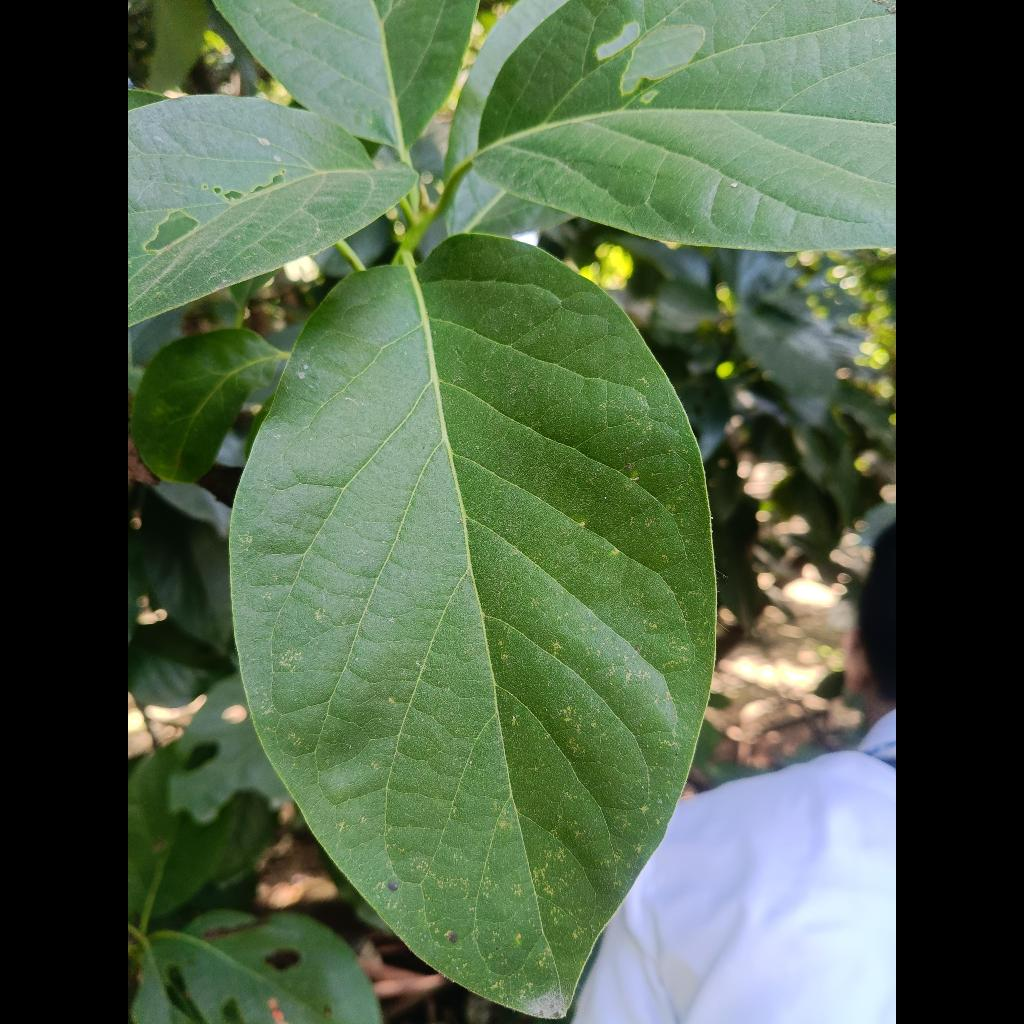Healthy: (230, 235, 715, 1016)
